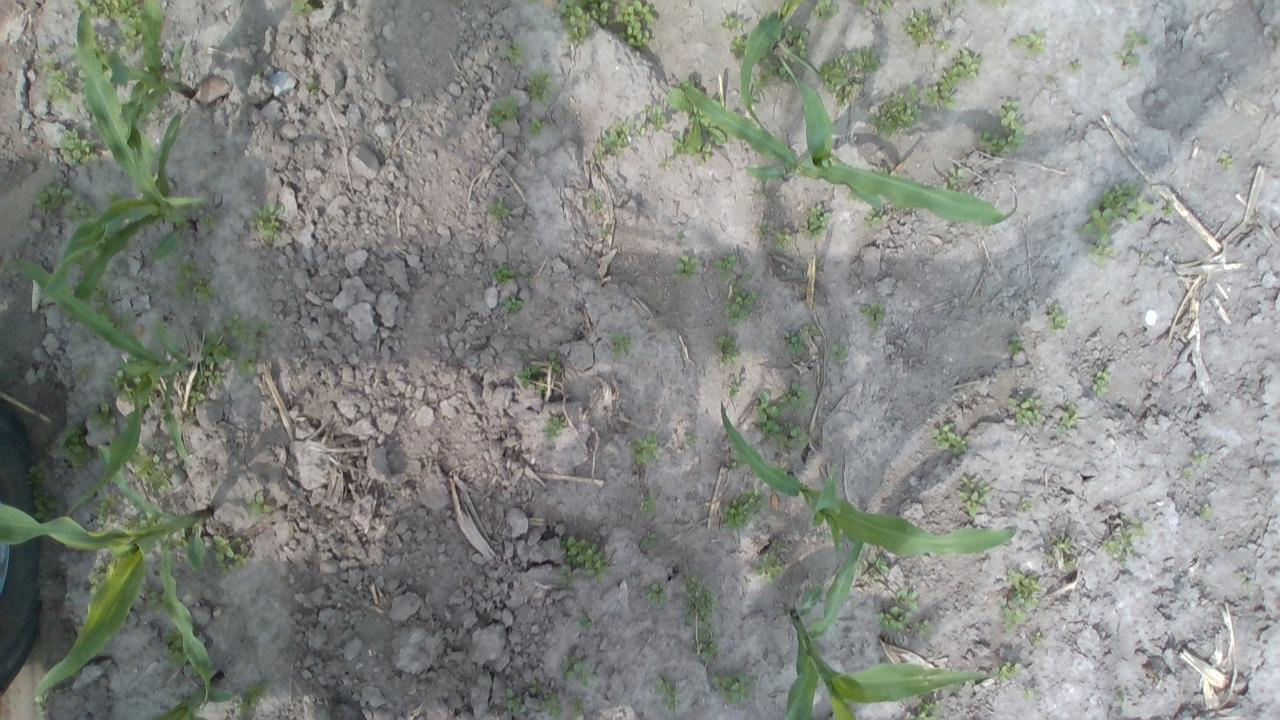Maize: (0, 444, 213, 712), (678, 69, 1023, 230), (9, 257, 200, 514), (41, 0, 204, 300), (720, 400, 1016, 556), (781, 542, 990, 720), (77, 0, 197, 149), (740, 0, 806, 134), (143, 672, 232, 720)
Weeds: (1081, 181, 1156, 243), (668, 78, 726, 156), (924, 47, 982, 112), (868, 84, 926, 138), (124, 439, 174, 492), (1102, 514, 1144, 570), (564, 534, 615, 578), (105, 370, 163, 407), (610, 0, 654, 48), (56, 420, 96, 470), (678, 574, 716, 626), (722, 487, 766, 530), (722, 270, 756, 325), (710, 670, 761, 706), (224, 312, 271, 350), (213, 533, 250, 579), (556, 0, 592, 46), (1114, 26, 1150, 71), (58, 128, 100, 166), (898, 8, 936, 50), (600, 117, 642, 154), (248, 200, 285, 241), (999, 100, 1028, 152), (1006, 566, 1040, 610), (956, 474, 990, 516), (236, 680, 270, 720), (72, 0, 140, 20), (689, 620, 720, 662), (202, 330, 238, 366), (1044, 532, 1076, 572), (119, 6, 144, 57), (1007, 396, 1045, 428), (89, 28, 112, 80), (1009, 28, 1047, 59), (755, 390, 779, 438), (754, 550, 786, 586), (932, 422, 968, 454), (164, 628, 192, 669), (34, 180, 72, 210), (802, 202, 832, 240), (30, 487, 60, 524), (820, 54, 849, 92), (654, 672, 680, 714), (782, 24, 810, 62), (631, 430, 660, 466), (45, 68, 73, 104), (560, 655, 592, 686), (778, 382, 809, 414), (998, 598, 1027, 632), (526, 68, 550, 108), (856, 554, 890, 582), (876, 607, 912, 633), (777, 423, 808, 453), (89, 398, 118, 430), (974, 130, 1008, 157), (752, 52, 776, 90), (716, 330, 740, 368), (1054, 398, 1078, 436), (489, 94, 518, 125), (858, 300, 886, 332), (848, 46, 881, 73), (834, 76, 861, 108), (711, 253, 740, 282), (93, 493, 117, 528), (63, 197, 99, 220), (990, 659, 1023, 684), (672, 253, 702, 280), (540, 689, 566, 720), (906, 699, 941, 720), (248, 490, 274, 518), (88, 558, 108, 594), (1084, 243, 1114, 267), (608, 330, 632, 358), (1044, 302, 1068, 330), (489, 262, 518, 285), (810, 0, 841, 21), (642, 104, 666, 131), (642, 582, 668, 606), (93, 300, 117, 326), (192, 278, 216, 304), (504, 40, 528, 66), (517, 364, 541, 390), (897, 588, 921, 613), (780, 332, 806, 355), (486, 196, 509, 222), (196, 369, 224, 390), (544, 414, 567, 439), (714, 12, 744, 31), (235, 352, 258, 376), (860, 208, 886, 229), (590, 0, 610, 27), (499, 294, 526, 314), (1091, 369, 1110, 397), (944, 166, 965, 190), (138, 510, 166, 528), (146, 588, 166, 613), (728, 33, 748, 58), (911, 618, 936, 638), (830, 340, 849, 366), (76, 61, 88, 102), (774, 229, 794, 253), (504, 688, 522, 714), (526, 115, 548, 136), (26, 464, 46, 487), (169, 527, 188, 551), (126, 354, 155, 369), (176, 260, 197, 280), (556, 566, 574, 589), (290, 0, 314, 17), (1234, 569, 1255, 588), (188, 384, 206, 406), (590, 192, 606, 216), (85, 280, 104, 300), (932, 36, 953, 54), (571, 694, 586, 719), (640, 492, 657, 514), (33, 694, 49, 717), (198, 213, 216, 233), (1190, 448, 1210, 466), (725, 451, 745, 469), (172, 278, 188, 300), (104, 188, 123, 206), (640, 530, 659, 548), (778, 65, 795, 85), (1008, 334, 1024, 355), (1021, 686, 1043, 701), (1196, 502, 1214, 520), (73, 365, 92, 382), (757, 180, 773, 200), (1017, 496, 1035, 513), (1160, 198, 1177, 216), (696, 144, 711, 164), (1064, 58, 1082, 74), (1220, 150, 1234, 170), (548, 352, 561, 373), (846, 189, 864, 204), (749, 83, 760, 107), (728, 376, 740, 398), (579, 614, 595, 630), (755, 218, 770, 235), (1031, 630, 1046, 647), (116, 313, 134, 327), (305, 76, 319, 94), (802, 325, 822, 337), (42, 58, 59, 72), (536, 378, 550, 395), (121, 516, 136, 530), (977, 0, 1007, 7), (529, 679, 542, 695), (1180, 466, 1194, 480), (682, 432, 696, 446), (594, 146, 606, 162), (656, 158, 674, 168), (1140, 252, 1155, 264), (854, 0, 873, 9), (946, 0, 970, 7), (820, 528, 834, 540), (874, 166, 889, 177), (816, 258, 826, 274), (1114, 696, 1126, 708), (65, 102, 79, 112), (40, 44, 54, 54), (600, 229, 615, 238), (1274, 28, 1280, 49), (770, 538, 781, 549), (882, 0, 894, 10), (522, 270, 533, 280), (742, 578, 751, 590), (68, 46, 78, 56), (677, 231, 686, 240), (518, 349, 528, 357), (528, 0, 538, 7), (505, 339, 515, 346)
